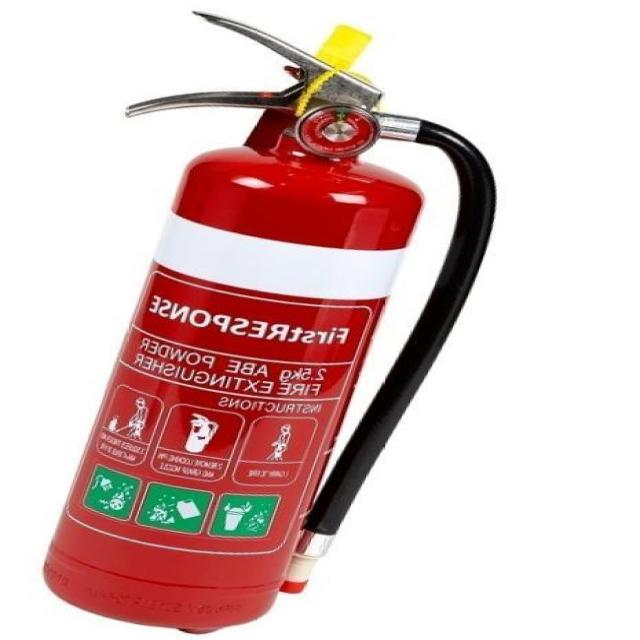fire_extinguisher: (28, 3, 506, 639)
